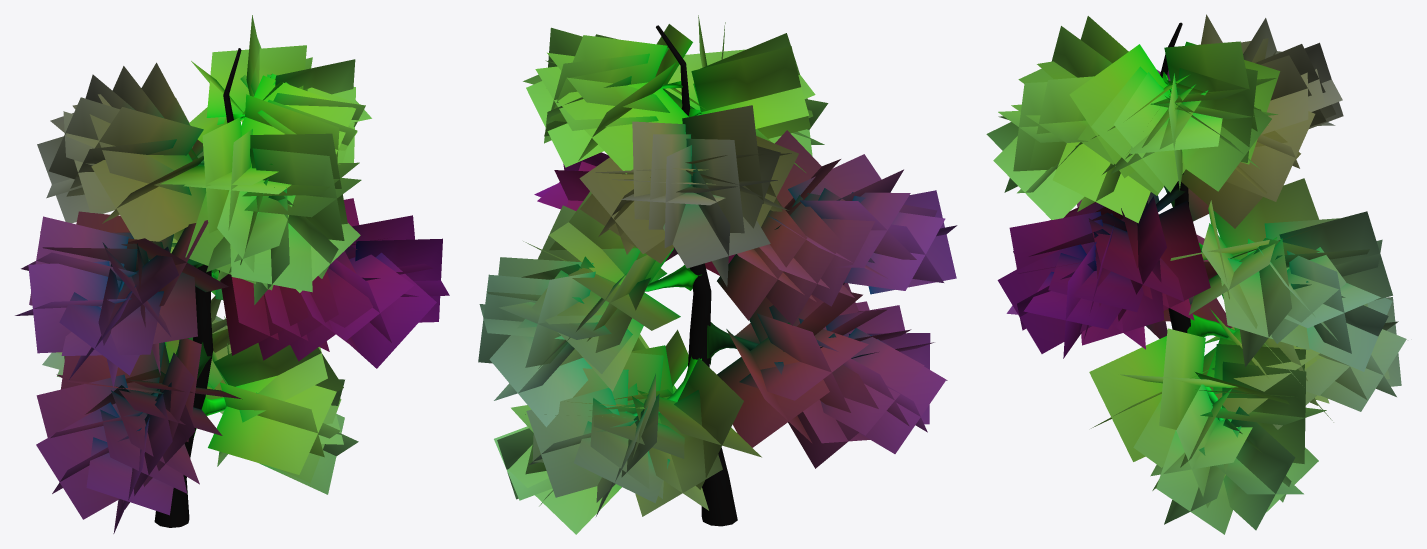
The model's file is URP_P14_Tree_3_LOD_2.fbx.
3 renders of one model, left to right at view 1: azimuth 30°, elevation 25°; view 2: azimuth 150°, elevation 25°; view 3: azimuth 270°, elevation 25°, orthographic. The views are drawn at different scales.
Visible parts, largest first — view 1: Tree_3_LOD_2; view 2: Tree_3_LOD_2; view 3: Tree_3_LOD_2.
Boxes of the visible parts, box(x1,y1,x2,y2) form: Tree_3_LOD_2: box(15, 15, 449, 533); Tree_3_LOD_2: box(478, 15, 957, 534); Tree_3_LOD_2: box(986, 14, 1406, 534).
Size of the model in its own units: 446 by 501 by 413.
